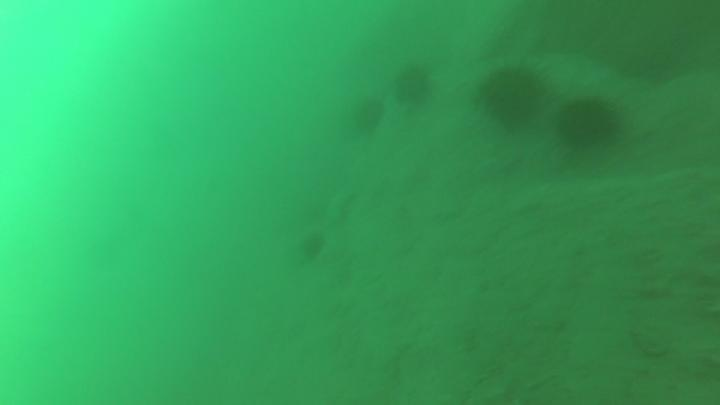echinus: (477, 68, 545, 125), (562, 99, 617, 148), (395, 70, 431, 100), (353, 100, 383, 130), (303, 233, 324, 257)
